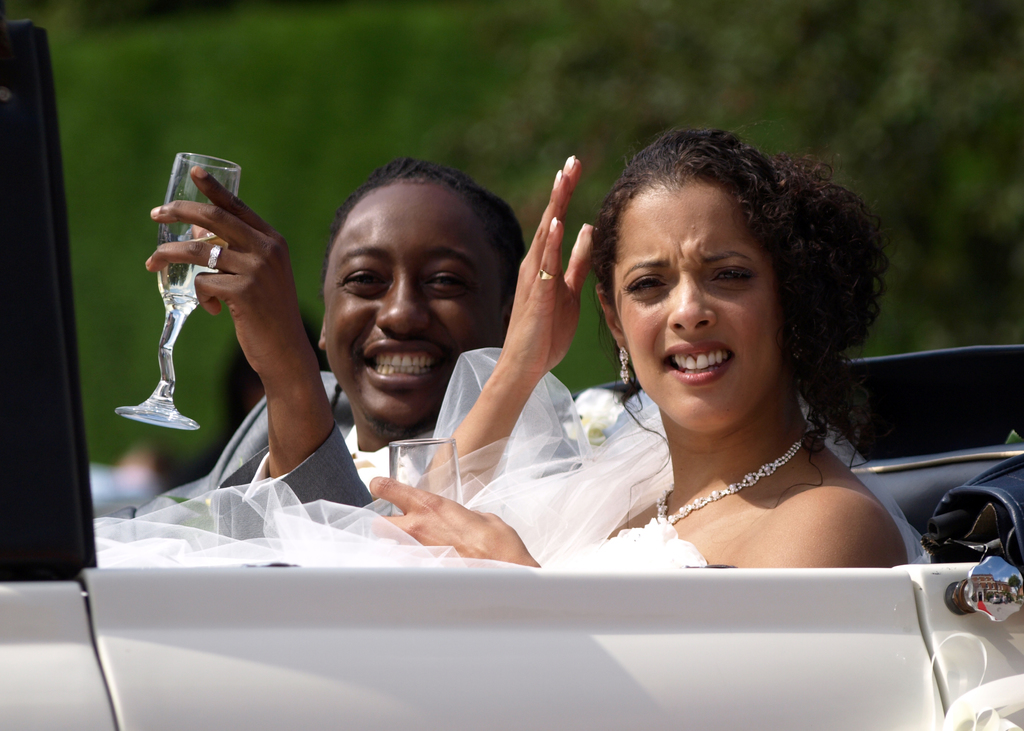Car: (0, 16, 1023, 730)
